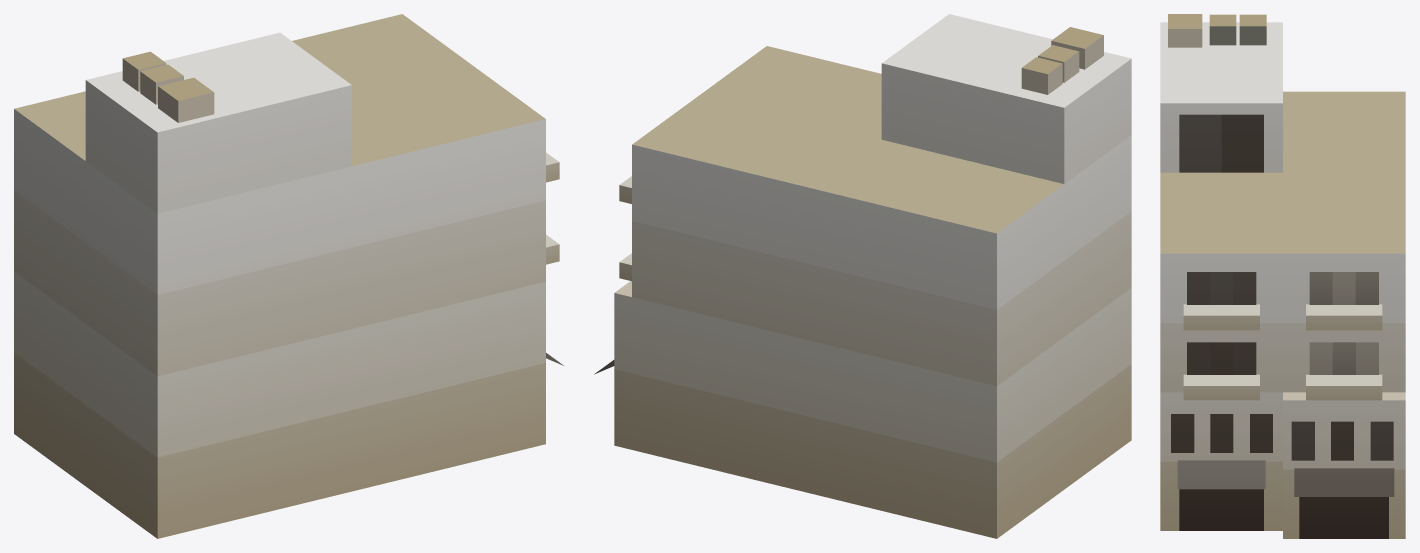
File: SM_City_Building_03.fbx
3 renders of one model, left to right at view 1: azimuth 30°, elevation 25°; view 2: azimuth 150°, elevation 25°; view 3: azimuth 270°, elevation 25°, orthographic. The views are drawn at different scales.
Parts seen in each view (by area): view 1: SM_City_Building_03; view 2: SM_City_Building_03; view 3: SM_City_Building_03.
Part boxes in pixels (x1=…): SM_City_Building_03: x1=14, y1=14, x2=563, y2=538; SM_City_Building_03: x1=594, y1=14, x2=1131, y2=538; SM_City_Building_03: x1=1160, y1=14, x2=1405, y2=538.
Size of the model in its own units: 3.93 by 3.69 by 2.24.
